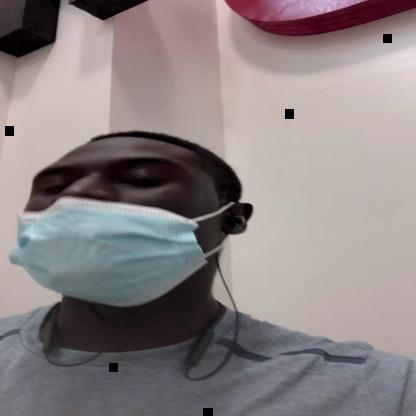mask: (9, 145, 233, 309)
